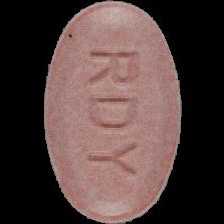0615-7523: (0, 0, 224, 224)
